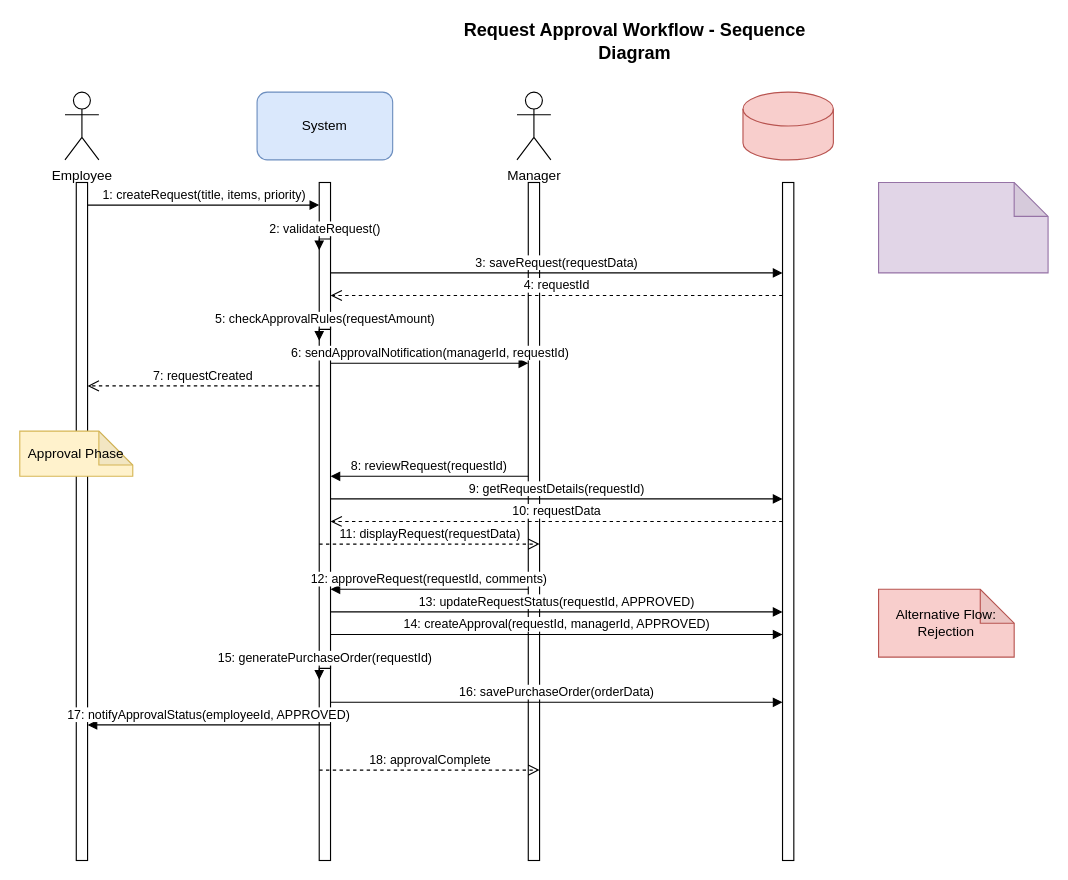
The diagram is 1068 pixels wide and 880 high, and some of its shapes have lost their labels. Here are the shapes that lost their labels. From the top down, the centre of each, then its label:
pixel 787 125: Database
pixel 962 227: Legend: → Synchronous Call ⇢ Asynchronous Call - - → Return Message
